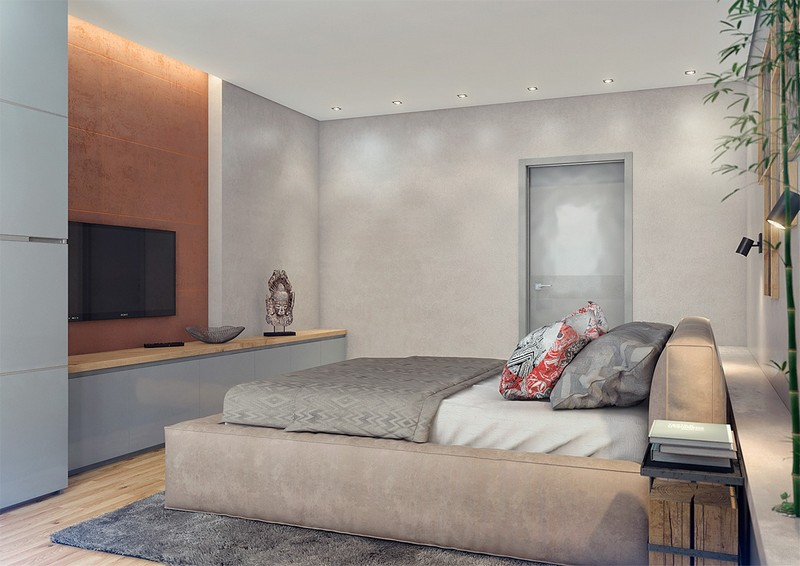bed: (166, 311, 729, 562)
